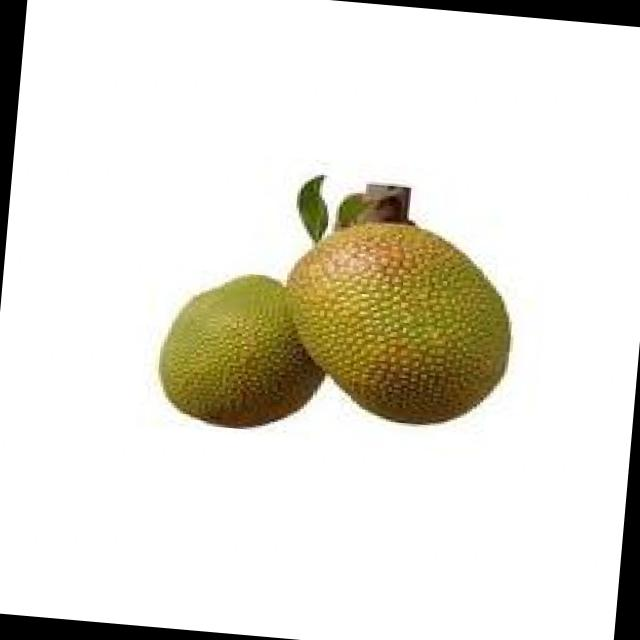Fruit: (249, 190, 533, 452), (136, 250, 350, 454)
